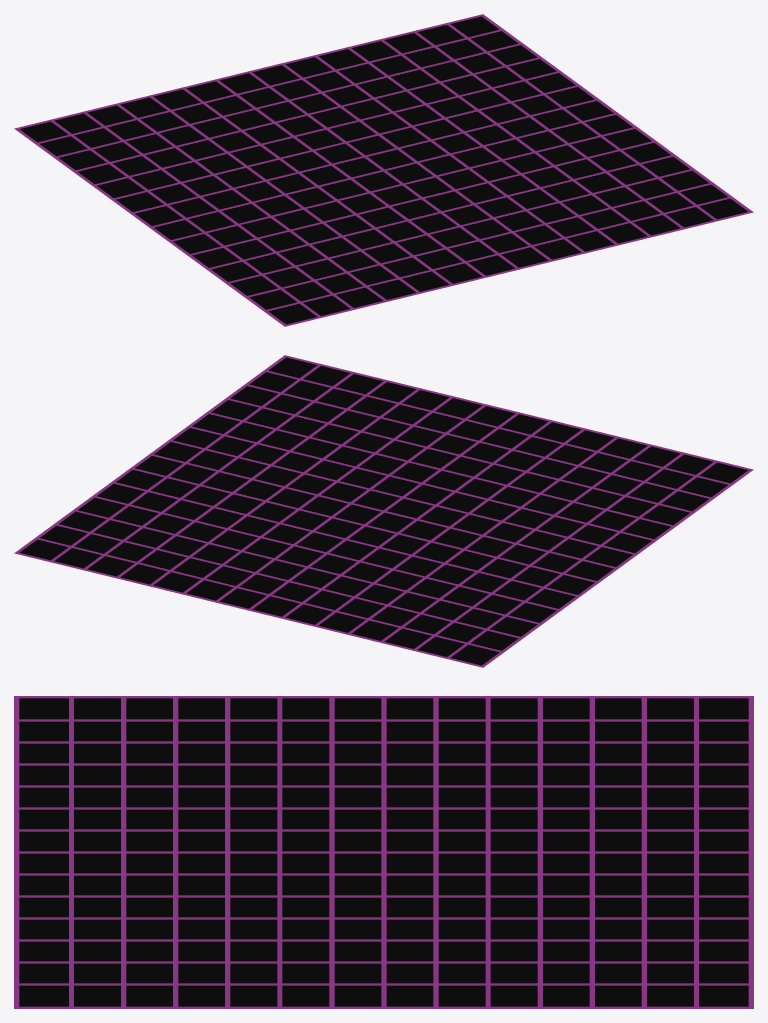
File: Grid_floor.fbx
3 renders of one model, top to bottom at view 1: azimuth 30°, elevation 25°; view 2: azimuth 150°, elevation 25°; view 3: azimuth 270°, elevation 25°, orthographic. The views are drawn at different scales.
Parts seen in each view (by area): view 1: grid; view 2: grid; view 3: grid.
Part boxes in pixels (bbox=[...]): grid: bbox=[14, 14, 753, 326]; grid: bbox=[14, 355, 753, 667]; grid: bbox=[14, 696, 753, 1008].
Bounding box in the file's own units: 14.21 × 5.46e-08 × 14.21.
